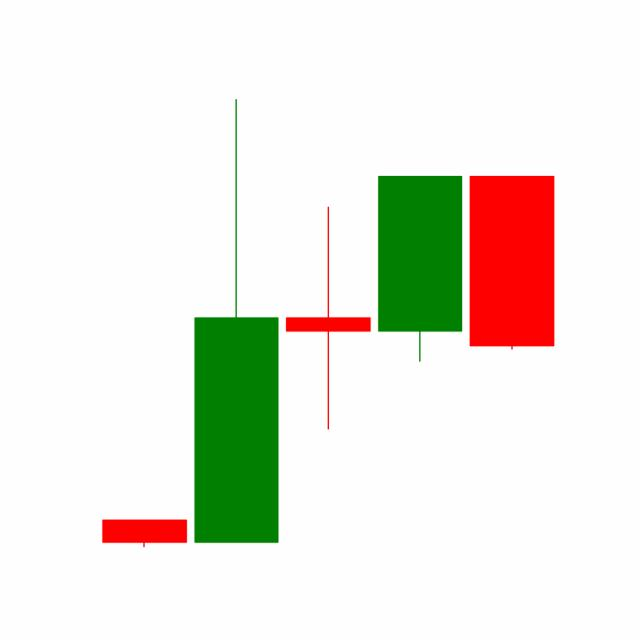Marubozu: (464, 174, 558, 352)
